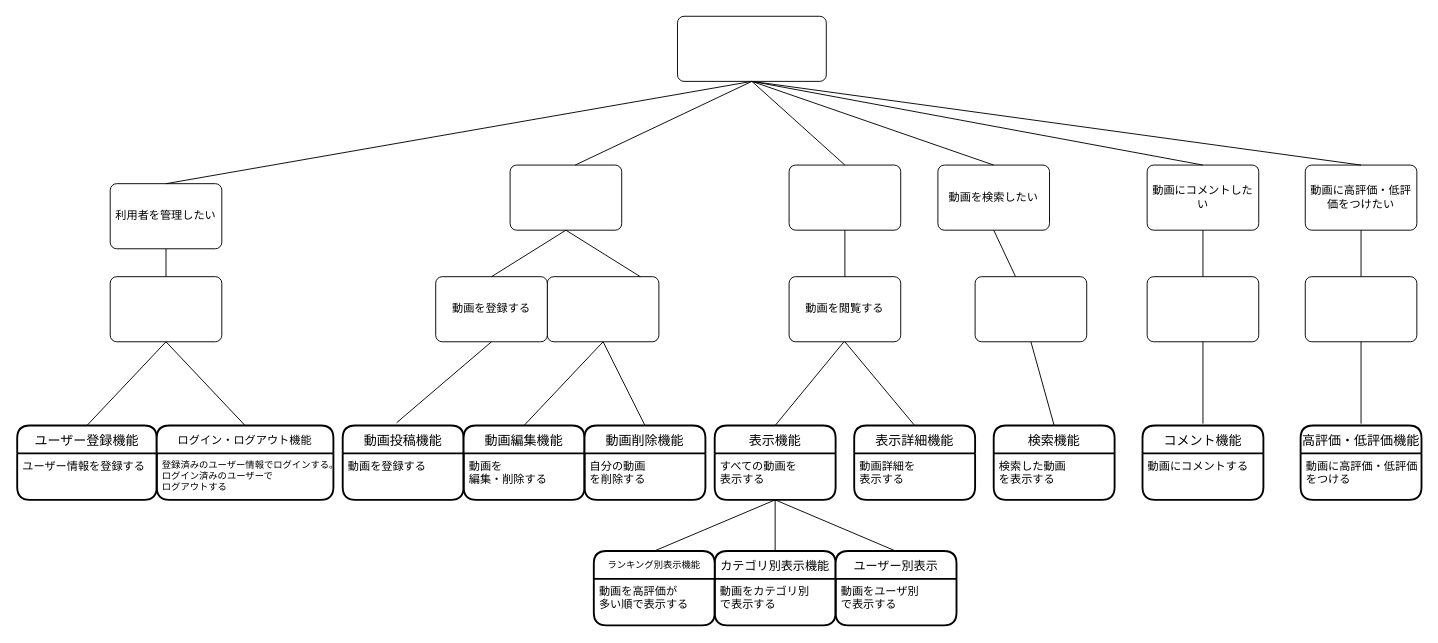
Some shapes in this 1438 by 643 pixel diagram are drawn without their labels. Here are the shapes that lost their labels. From the top down, the centre of each, then its label:
the point at 751,48: ユーザー
the point at 565,197: 動画を作成したい
the point at 844,197: 動画をを閲覧したい
the point at 165,309: 利用者を特定する
the point at 602,309: 動画を管理する
the point at 1030,309: 動画を検索する
the point at 1202,309: 動画にコメントをする
the point at 1360,309: 動画に高評価・低評価をする
